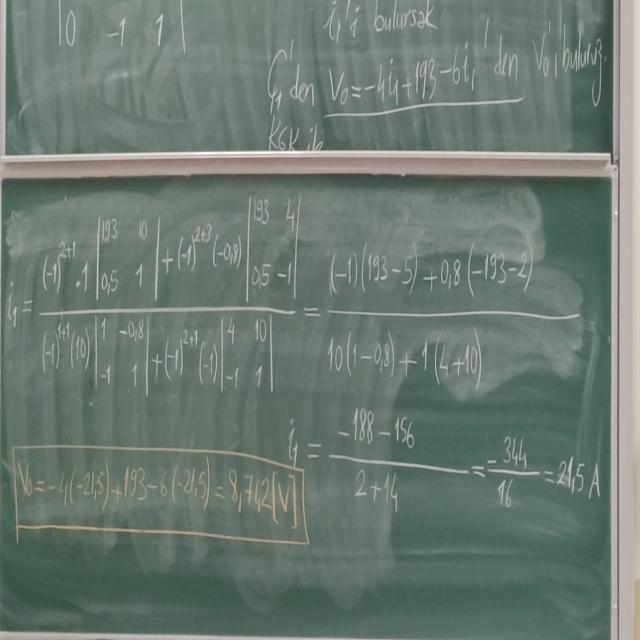math: (35, 197, 303, 396), (320, 238, 537, 401), (13, 445, 306, 543), (485, 429, 608, 529), (327, 38, 481, 114), (333, 402, 420, 520)
